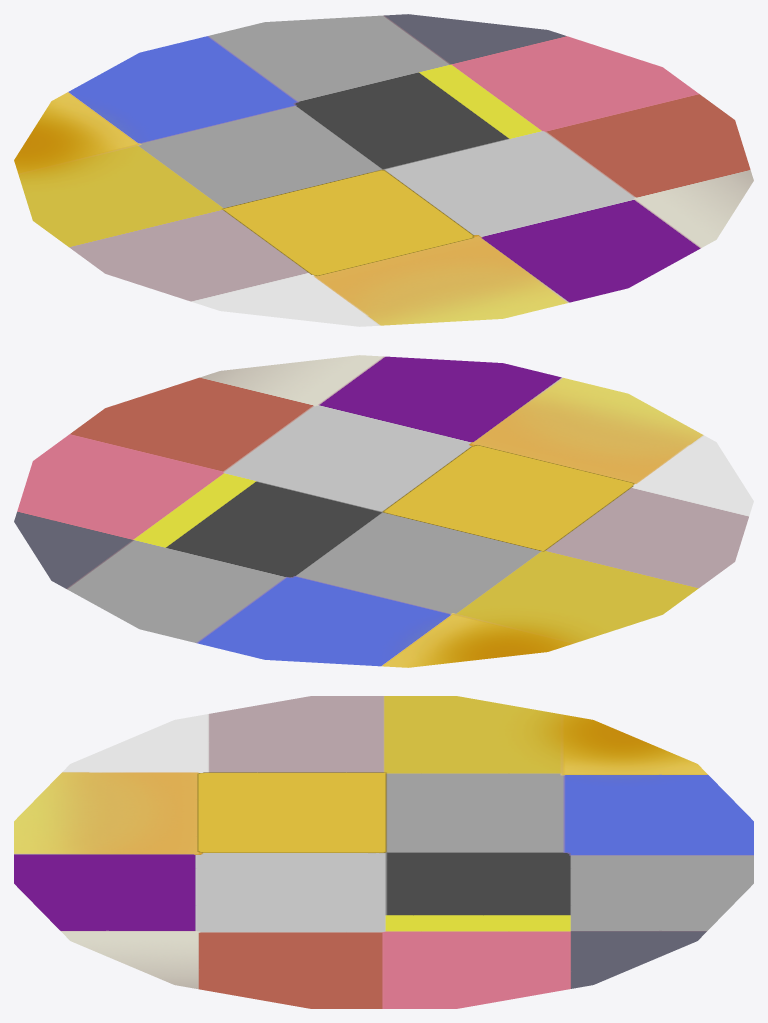
File: mod_sc_tdm_roma_round_001.fbx
3 views of the same model, one above another, from view 1: azimuth 30°, elevation 25°; view 2: azimuth 150°, elevation 25°; view 3: azimuth 270°, elevation 25° (orthographic).
Visible parts, largest first — view 1: mod_sc_roma_round_001; view 2: mod_sc_roma_round_001; view 3: mod_sc_roma_round_001.
Boxes of the visible parts, bbox=[...] form: mod_sc_roma_round_001: bbox=[14, 14, 753, 326]; mod_sc_roma_round_001: bbox=[14, 355, 753, 667]; mod_sc_roma_round_001: bbox=[14, 696, 753, 1008].
Bounding box in the file's own units: 206 × 1.53e-05 × 206.
